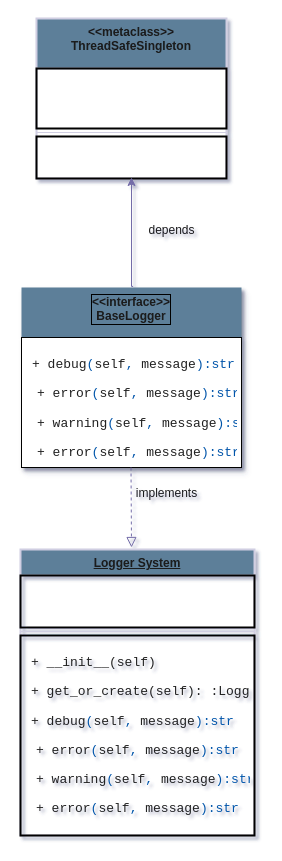
Some shapes in this 282 by 861 pixel diagram are drawn without their labels. The centre of each missing label's shape, as x and y in pixels:
"+ __call__ ( cls , * args , ** kwargs )" belongs at [131,157].
"+ name : str + level : str + formatter : str - logger : Logger" belongs at [137,601].
"- _instance: dict - _lock:threading.lock()" belongs at [131,98].
